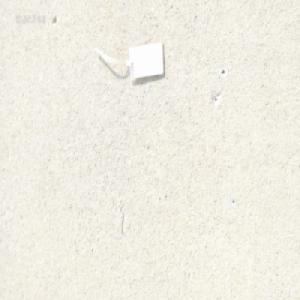LuggageTag: (93, 38, 165, 84)
